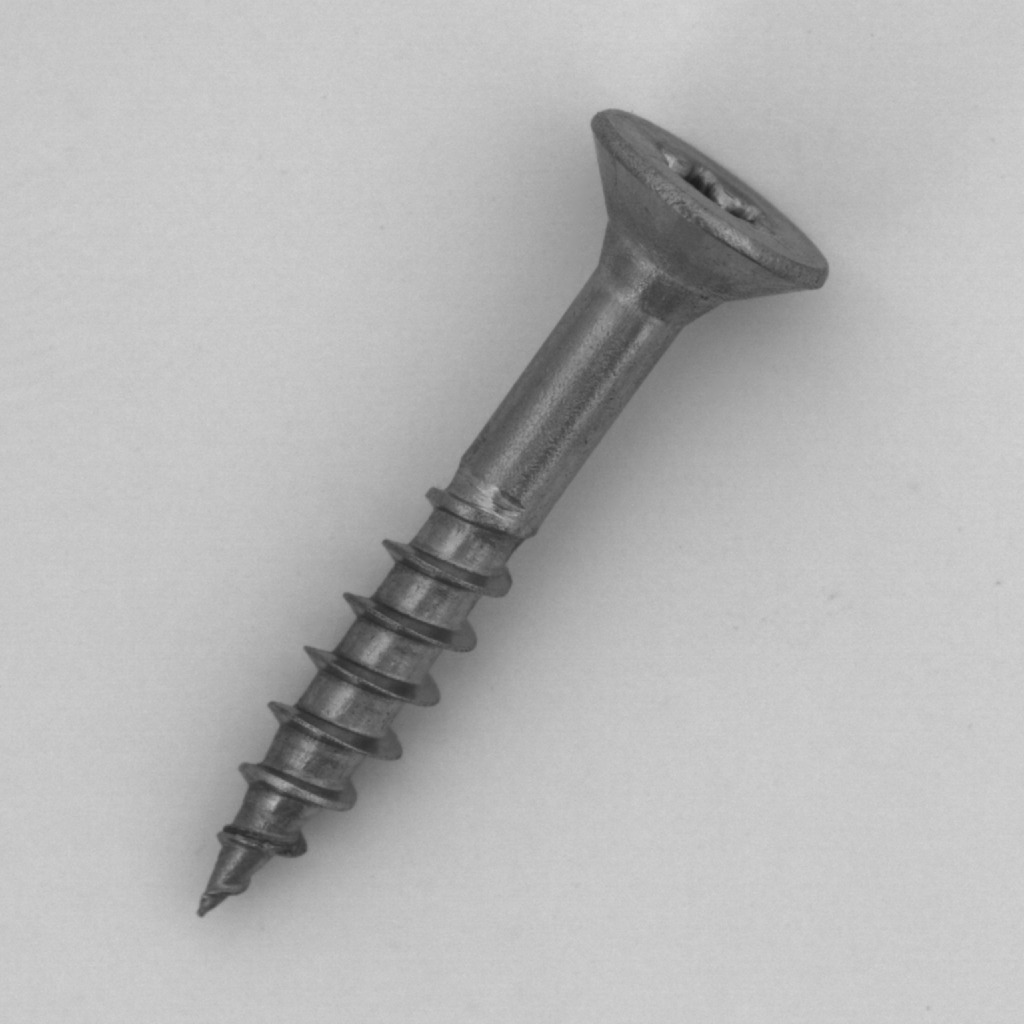good: (173, 94, 843, 941)
